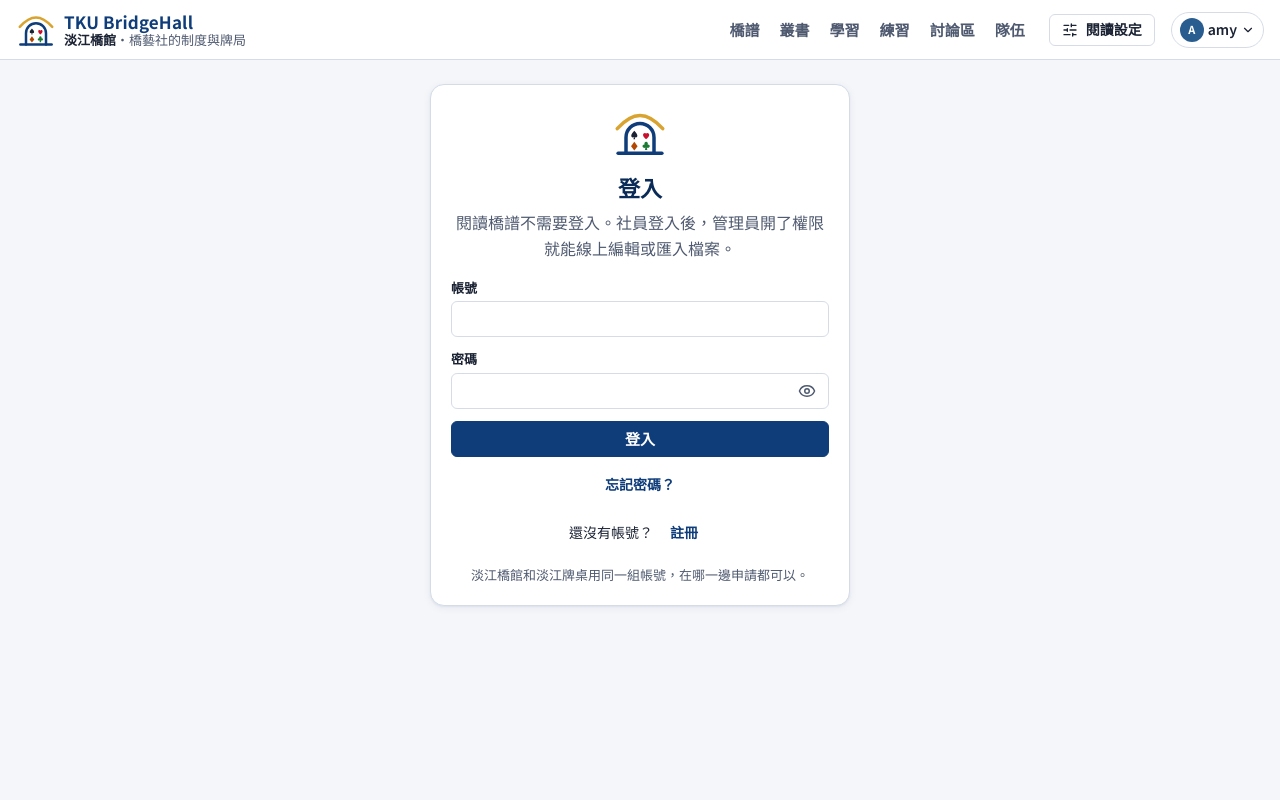
Scenario: signing in and registering › keeps theme and 字級 in 閱讀設定, not in the header (e9-t11)
Expected: the password field labelled "密碼" is shown, x1=451 y1=373 x2=829 y2=409
Expected: the element "字級" is not shown
Click the button "閱讀設定" at (1102, 30), box x1=1049 y1=14 x2=1155 y2=46
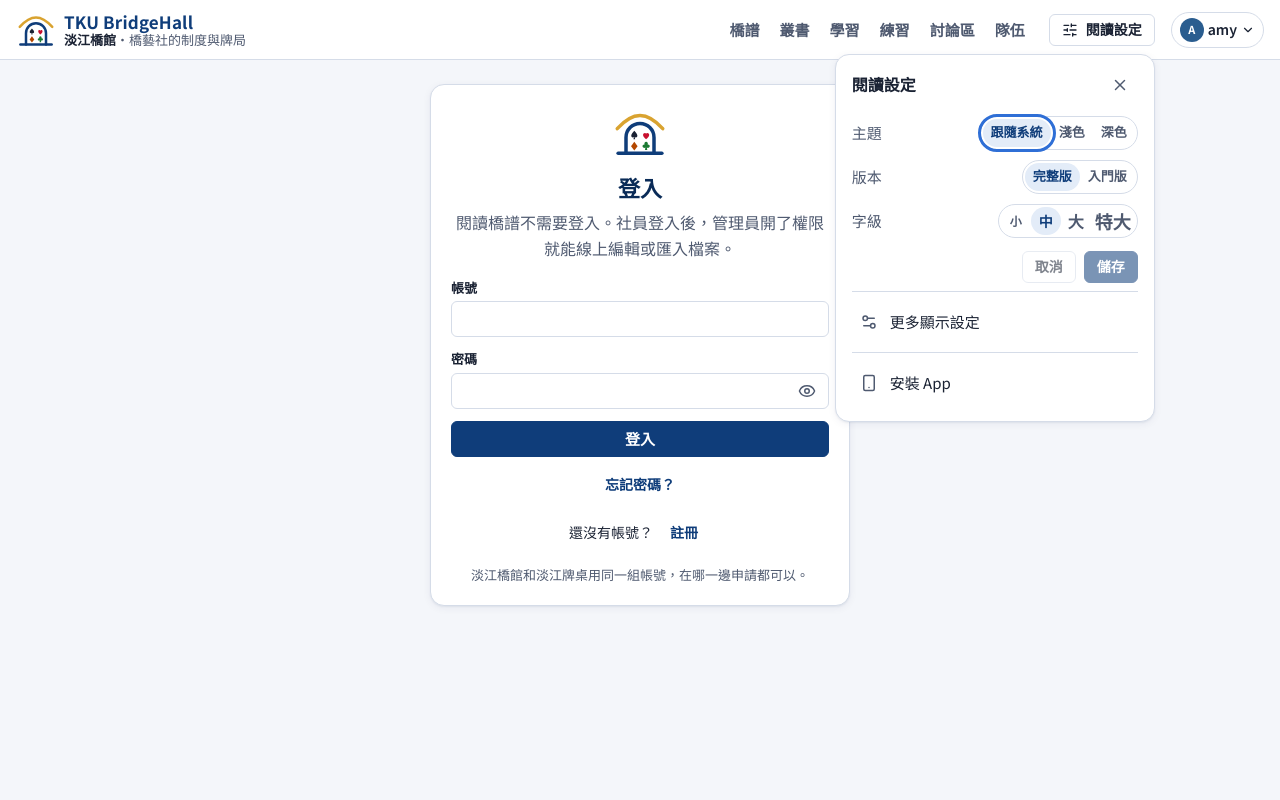
Now the dialog shows "字級", box x1=852 y1=210 x2=882 y2=231
